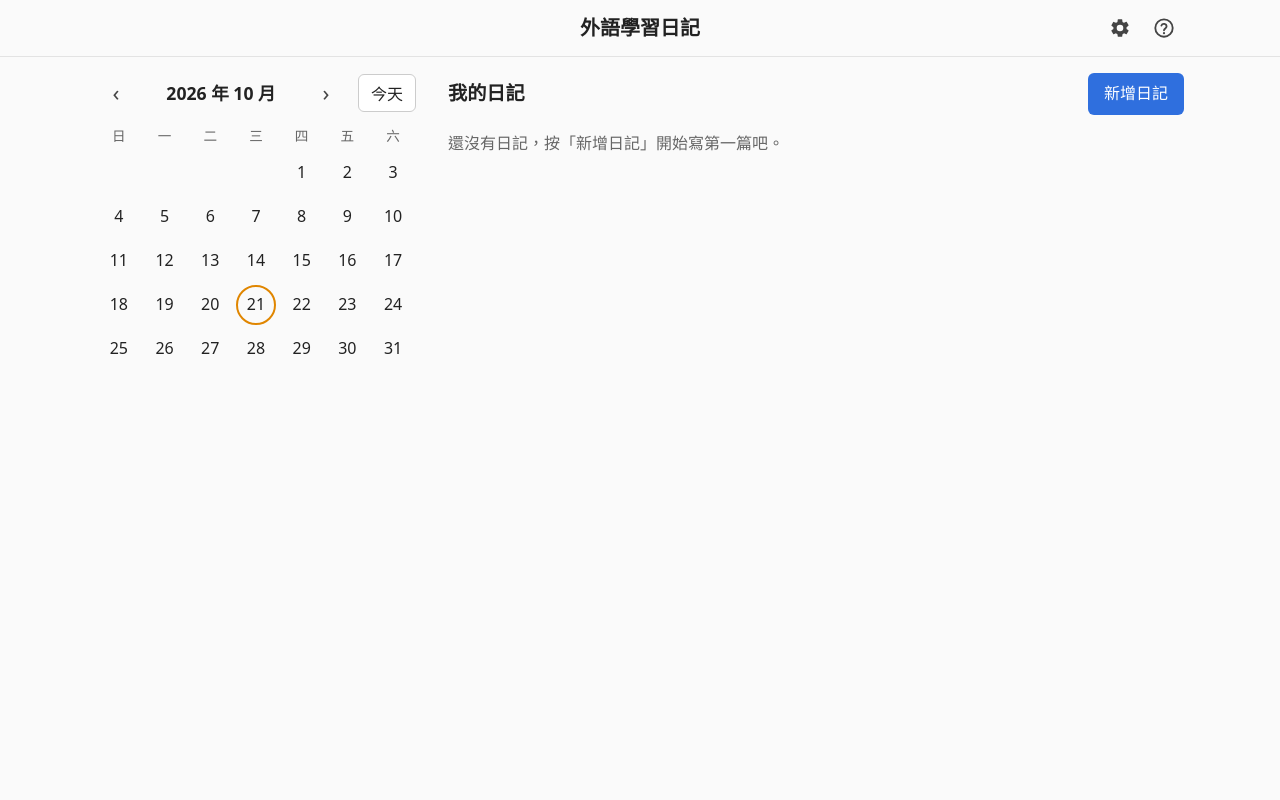
Test case: App › navigates from the list to the editor via the 新增日記 button
expect the text "還沒有日記，按「新增日記」開始寫第一篇吧。" is shown: met, box [448, 132, 784, 154]
Click the link "新增日記".
click(1136, 94)  # box [1088, 73, 1184, 115]
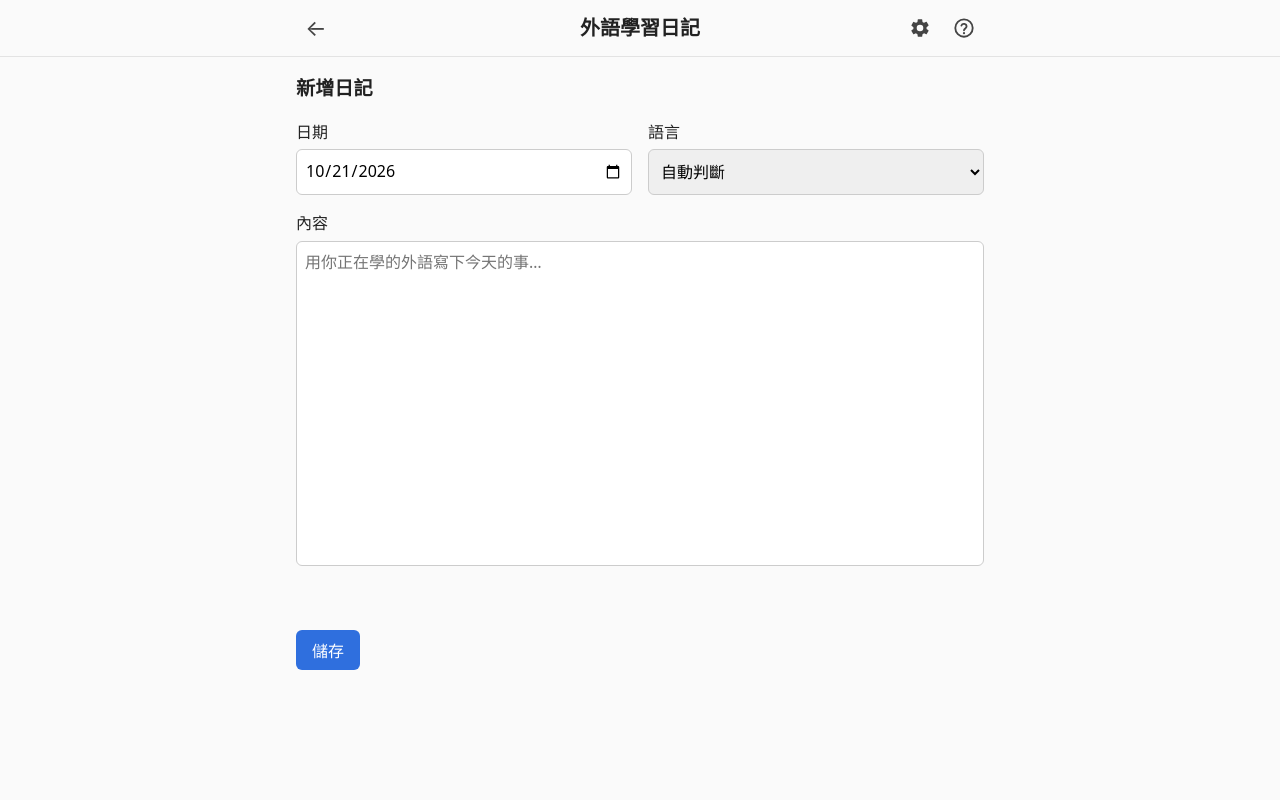
expect the button "儲存" is shown: met, box [296, 630, 360, 670]
